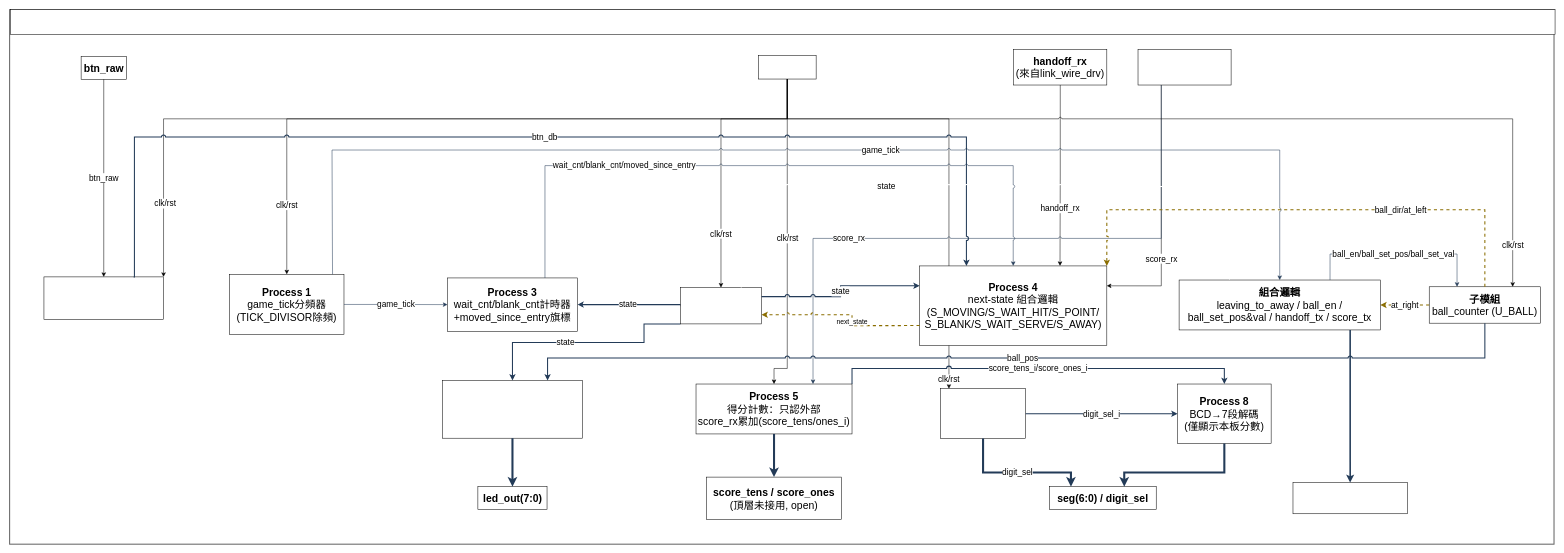
The diagram is 1564 pixels wide and 553 high, and some of its shapes have lost their labels. The shapes that lost their labels are listed below. From the top down, each one's box as (x1, y1, x2, y2) in pixels, then its label:
(758, 55, 816, 79): clk / rst
(1138, 49, 1231, 85): score_rx (來自link_wire_drv)
(43, 276, 164, 320): 子模組 debounce (U_DB_BTN)
(680, 287, 762, 324): Process 2 state 狀態暫存器
(442, 380, 583, 438): Process 6 ball_pos→LED0~7 one-hot (S_BLANK/S_AWAY時全滅)
(940, 388, 1026, 439): Process 7 scan_cnt分頻 →digit_sel_i切換
(1292, 482, 1407, 514): handoff_tx / score_tx (送往link_wire_drv)
